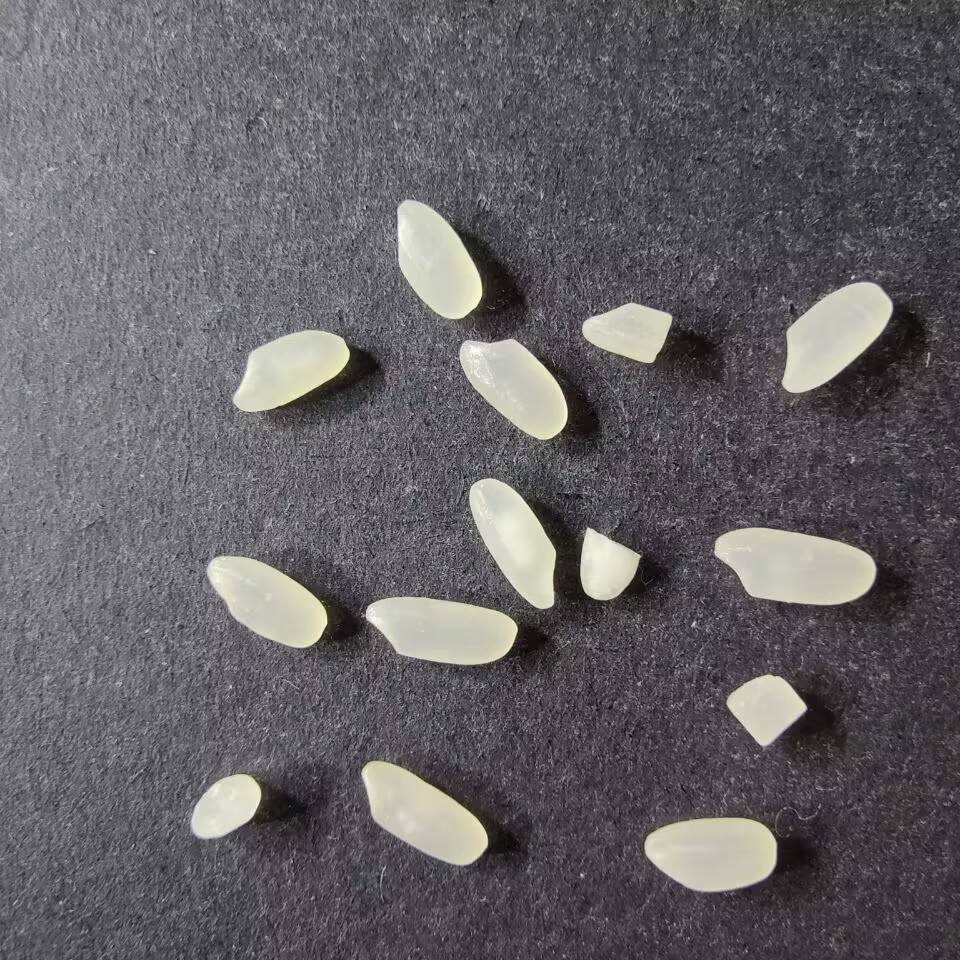broken: (725, 674, 807, 746), (581, 302, 672, 364), (189, 773, 261, 838), (579, 527, 642, 600)
rice: (361, 760, 488, 866), (713, 527, 876, 606), (780, 281, 892, 393), (468, 478, 557, 609), (206, 555, 328, 648), (459, 338, 568, 440), (364, 596, 517, 665), (395, 200, 482, 319), (643, 817, 778, 892), (231, 329, 350, 412)
